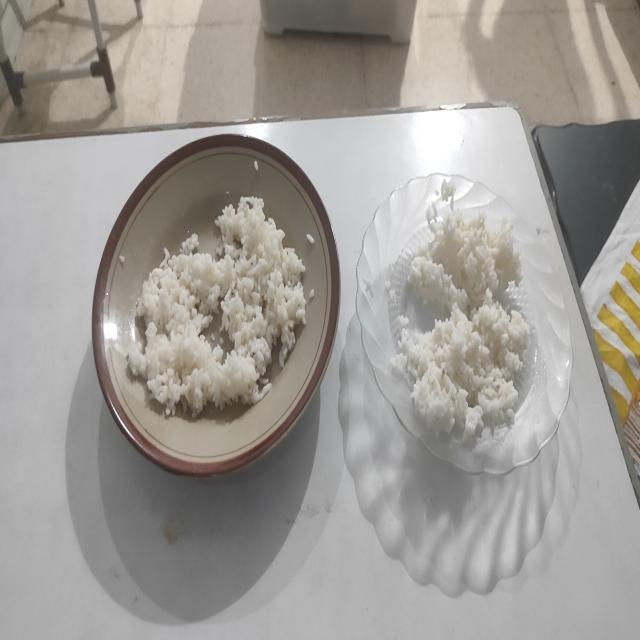nasi_putih: (126, 196, 306, 416), (394, 211, 530, 443)
